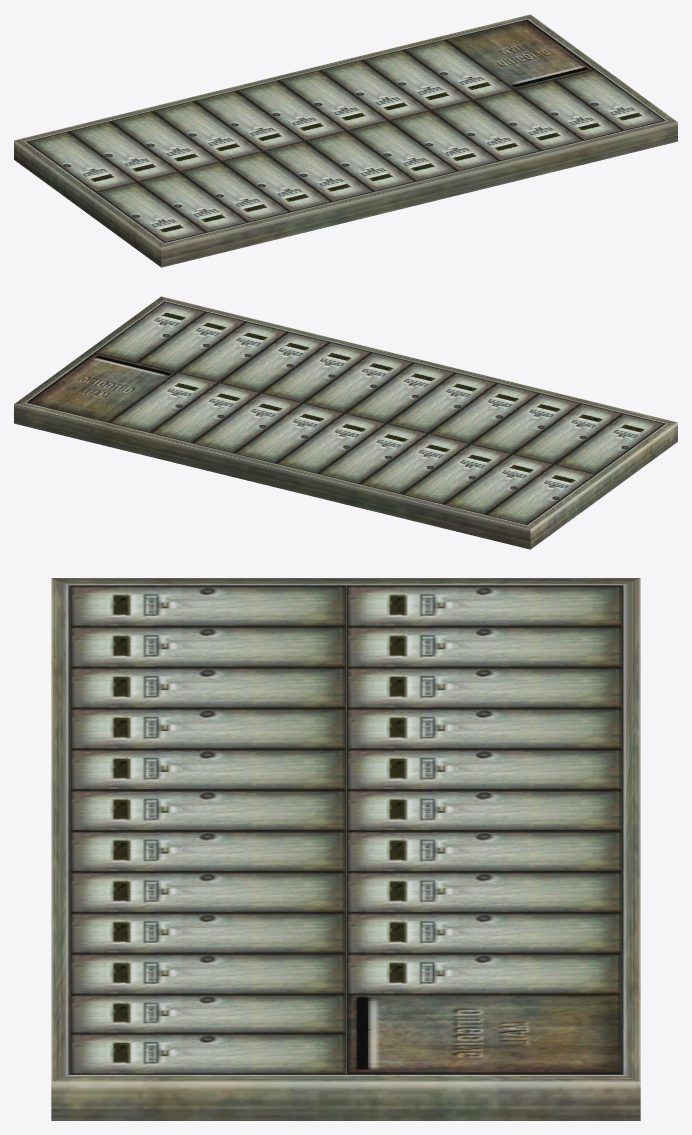
The model's file is multi_boxes.fbx.
3 renders of one model, top to bottom at view 1: azimuth 30°, elevation 25°; view 2: azimuth 150°, elevation 25°; view 3: azimuth 270°, elevation 25°, orthographic. The views are drawn at different scales.
Visible parts, largest first — view 1: mesh_0; view 2: mesh_0; view 3: mesh_0.
Boxes of the visible parts, x1=… form: mesh_0: x1=14, y1=14, x2=677, y2=267; mesh_0: x1=14, y1=296, x2=677, y2=549; mesh_0: x1=51, y1=578, x2=640, y2=1120.
Bounding box in the file's own units: 259 × 9.29 × 128.
Materials: 1 (1 with a texture image).
